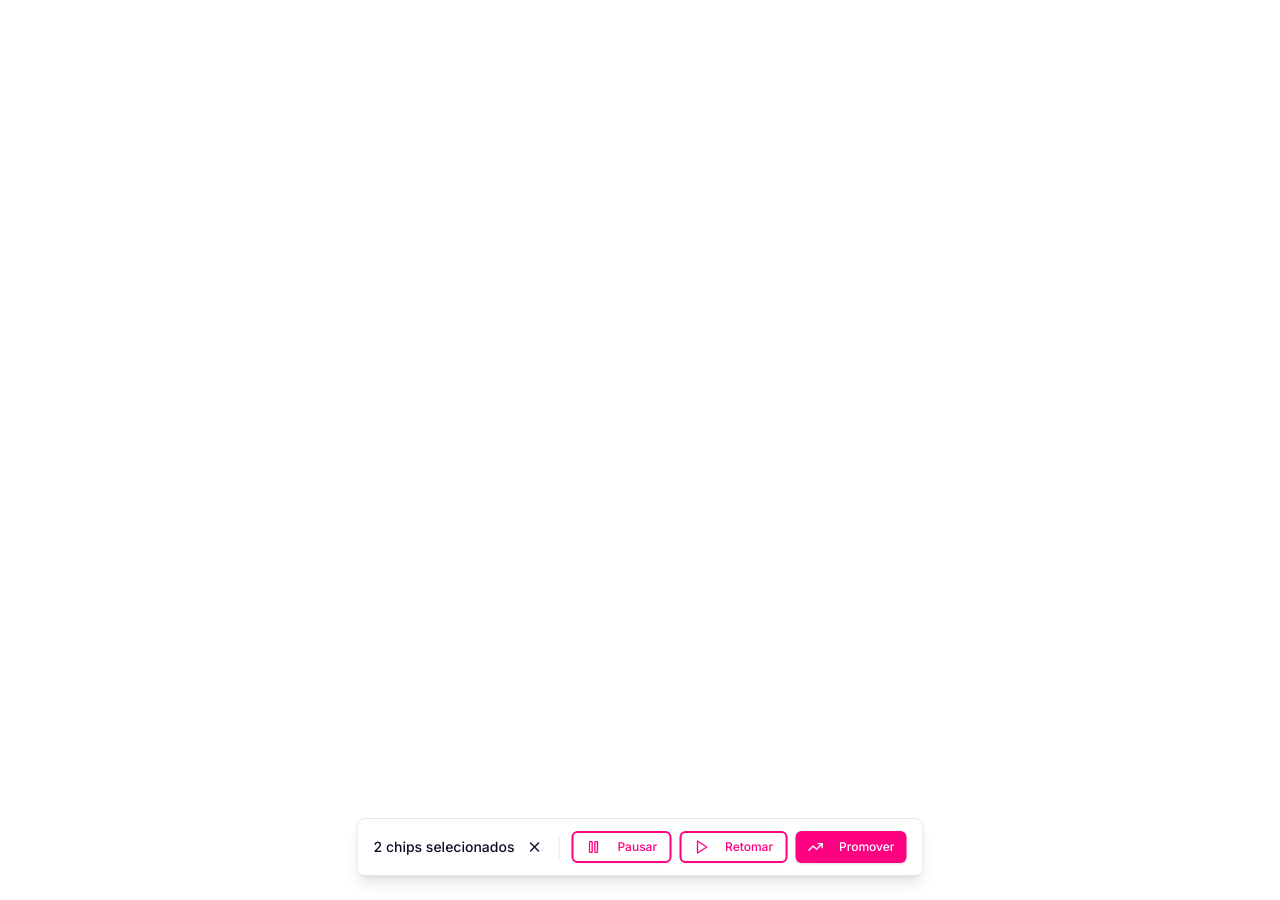
Test: ChipsBulkActions › confirmation dialogs › should show pause confirmation dialog
The image size is (1280, 900).
What coordinates should you click on to do the following:
click the button "Pausar"
I would click on:
 (621, 847)
Its box is [572,831,671,863].
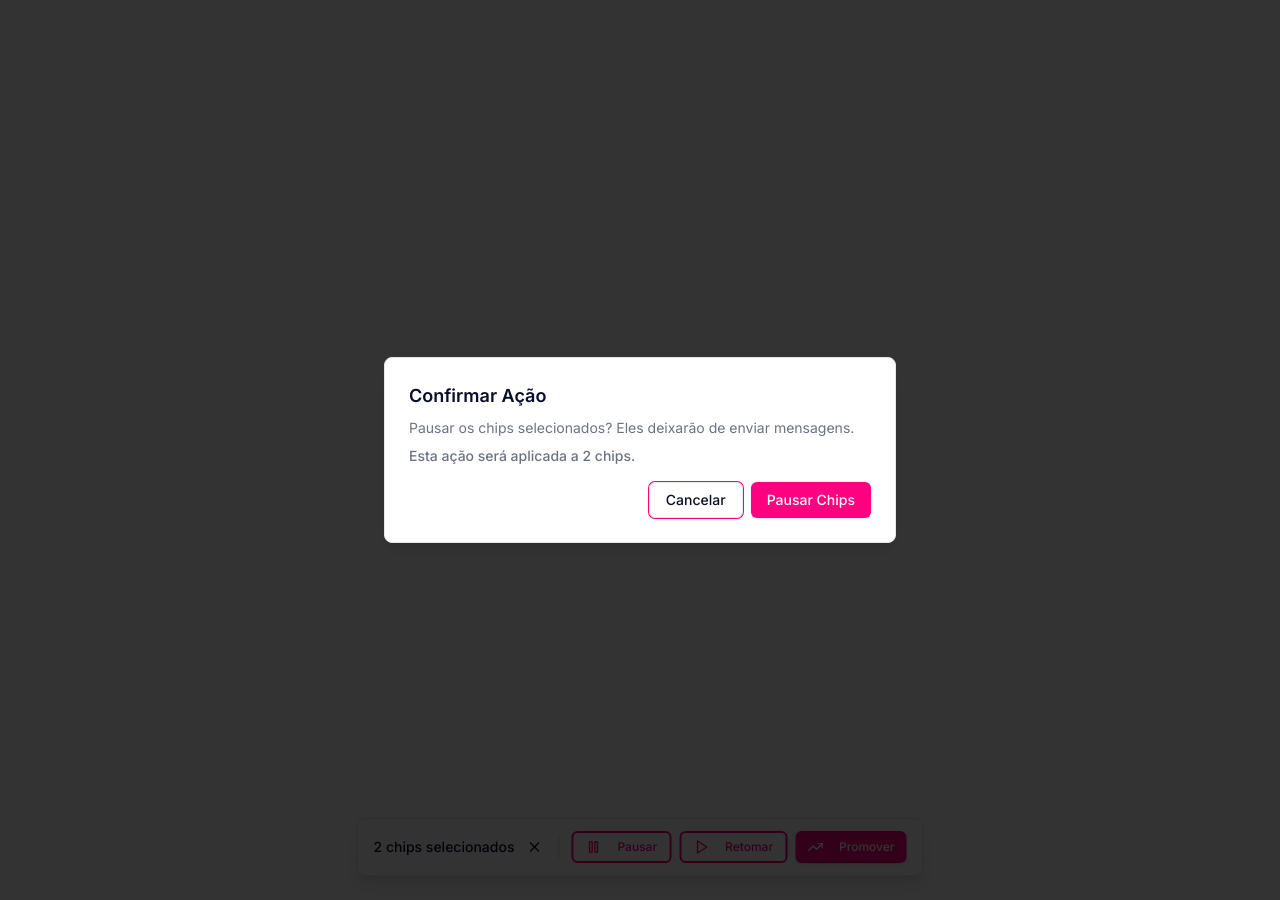
Check: the heading "Confirmar Ação" is shown, box [409,385,546,406]
Check: the text "Pausar os chips selecionados" is shown, box [409,419,854,436]
Check: the text "Esta ação será aplicada a 2 chips." is shown, box [409,447,635,464]
